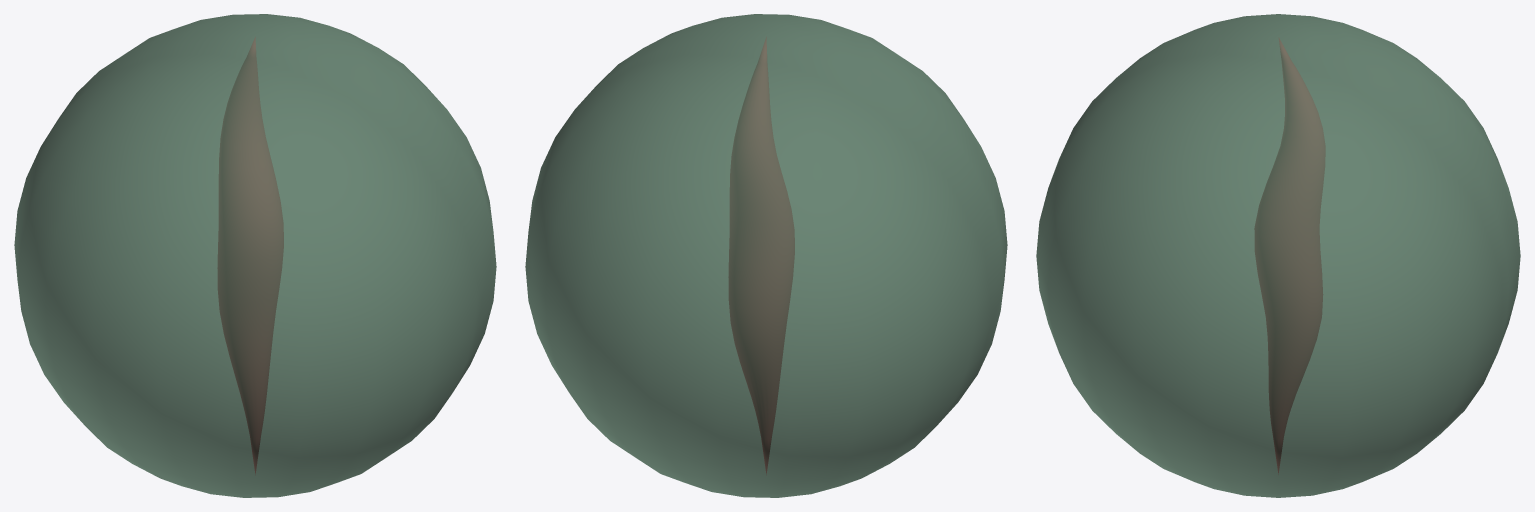
Rendered from marble_01_ah.fbx.
3 renders of one model, left to right at view 1: azimuth 30°, elevation 25°; view 2: azimuth 150°, elevation 25°; view 3: azimuth 270°, elevation 25°, orthographic.
Visible parts, largest first — view 1: marble_02; view 2: marble_02; view 3: marble_02.
Part boxes in pixels (x1,y1,x2,y2): marble_02: (14,14,496,497); marble_02: (525,14,1007,497); marble_02: (1036,14,1520,497).
Size of the model in its own units: 0.4818 by 0.4818 by 0.4818.
